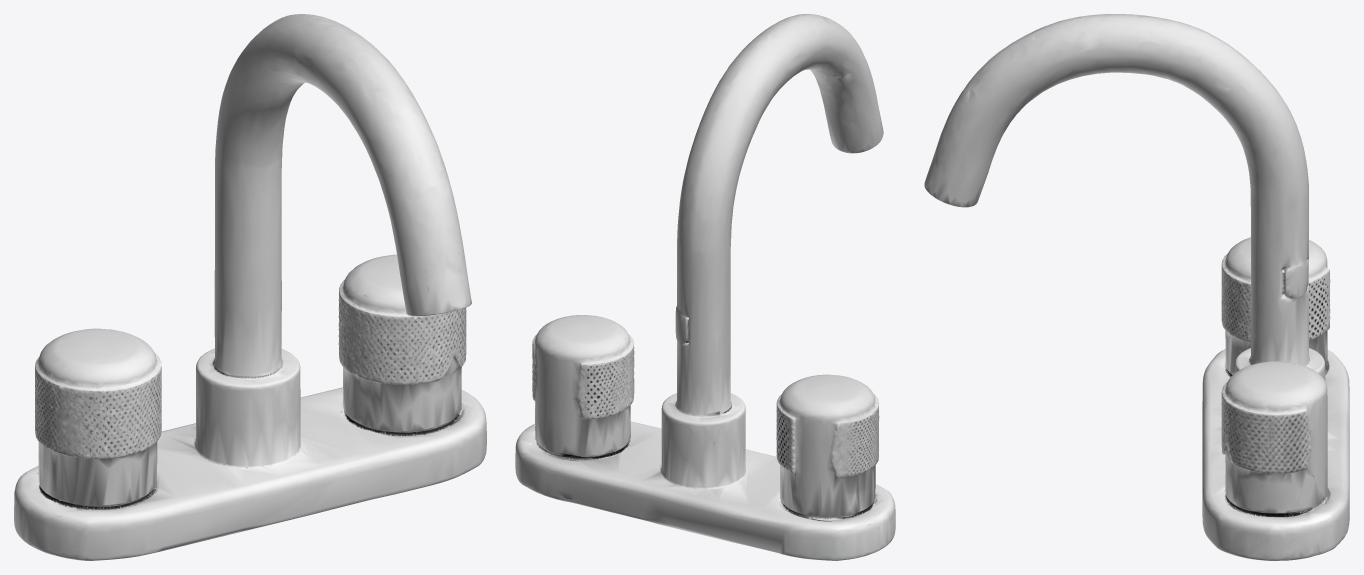
Rendered from faucet.glb.
The picture shows the model from 3 angles, left to right: view 1: azimuth 30°, elevation 25°; view 2: azimuth 150°, elevation 25°; view 3: azimuth 270°, elevation 25°; orthographic projection. The views are drawn at different scales.
Parts seen in each view (by area): view 1: Mesh_0; view 2: Mesh_0; view 3: Mesh_0.
Part boxes in pixels (left/top/right/bottom): Mesh_0: left=14, top=14, right=486, bottom=560; Mesh_0: left=515, top=14, right=895, bottom=560; Mesh_0: left=924, top=14, right=1349, bottom=560.
Bounding box in the file's own units: 1.71 × 1.9 × 1.62.
Materials: 1 (1 with a texture image).
